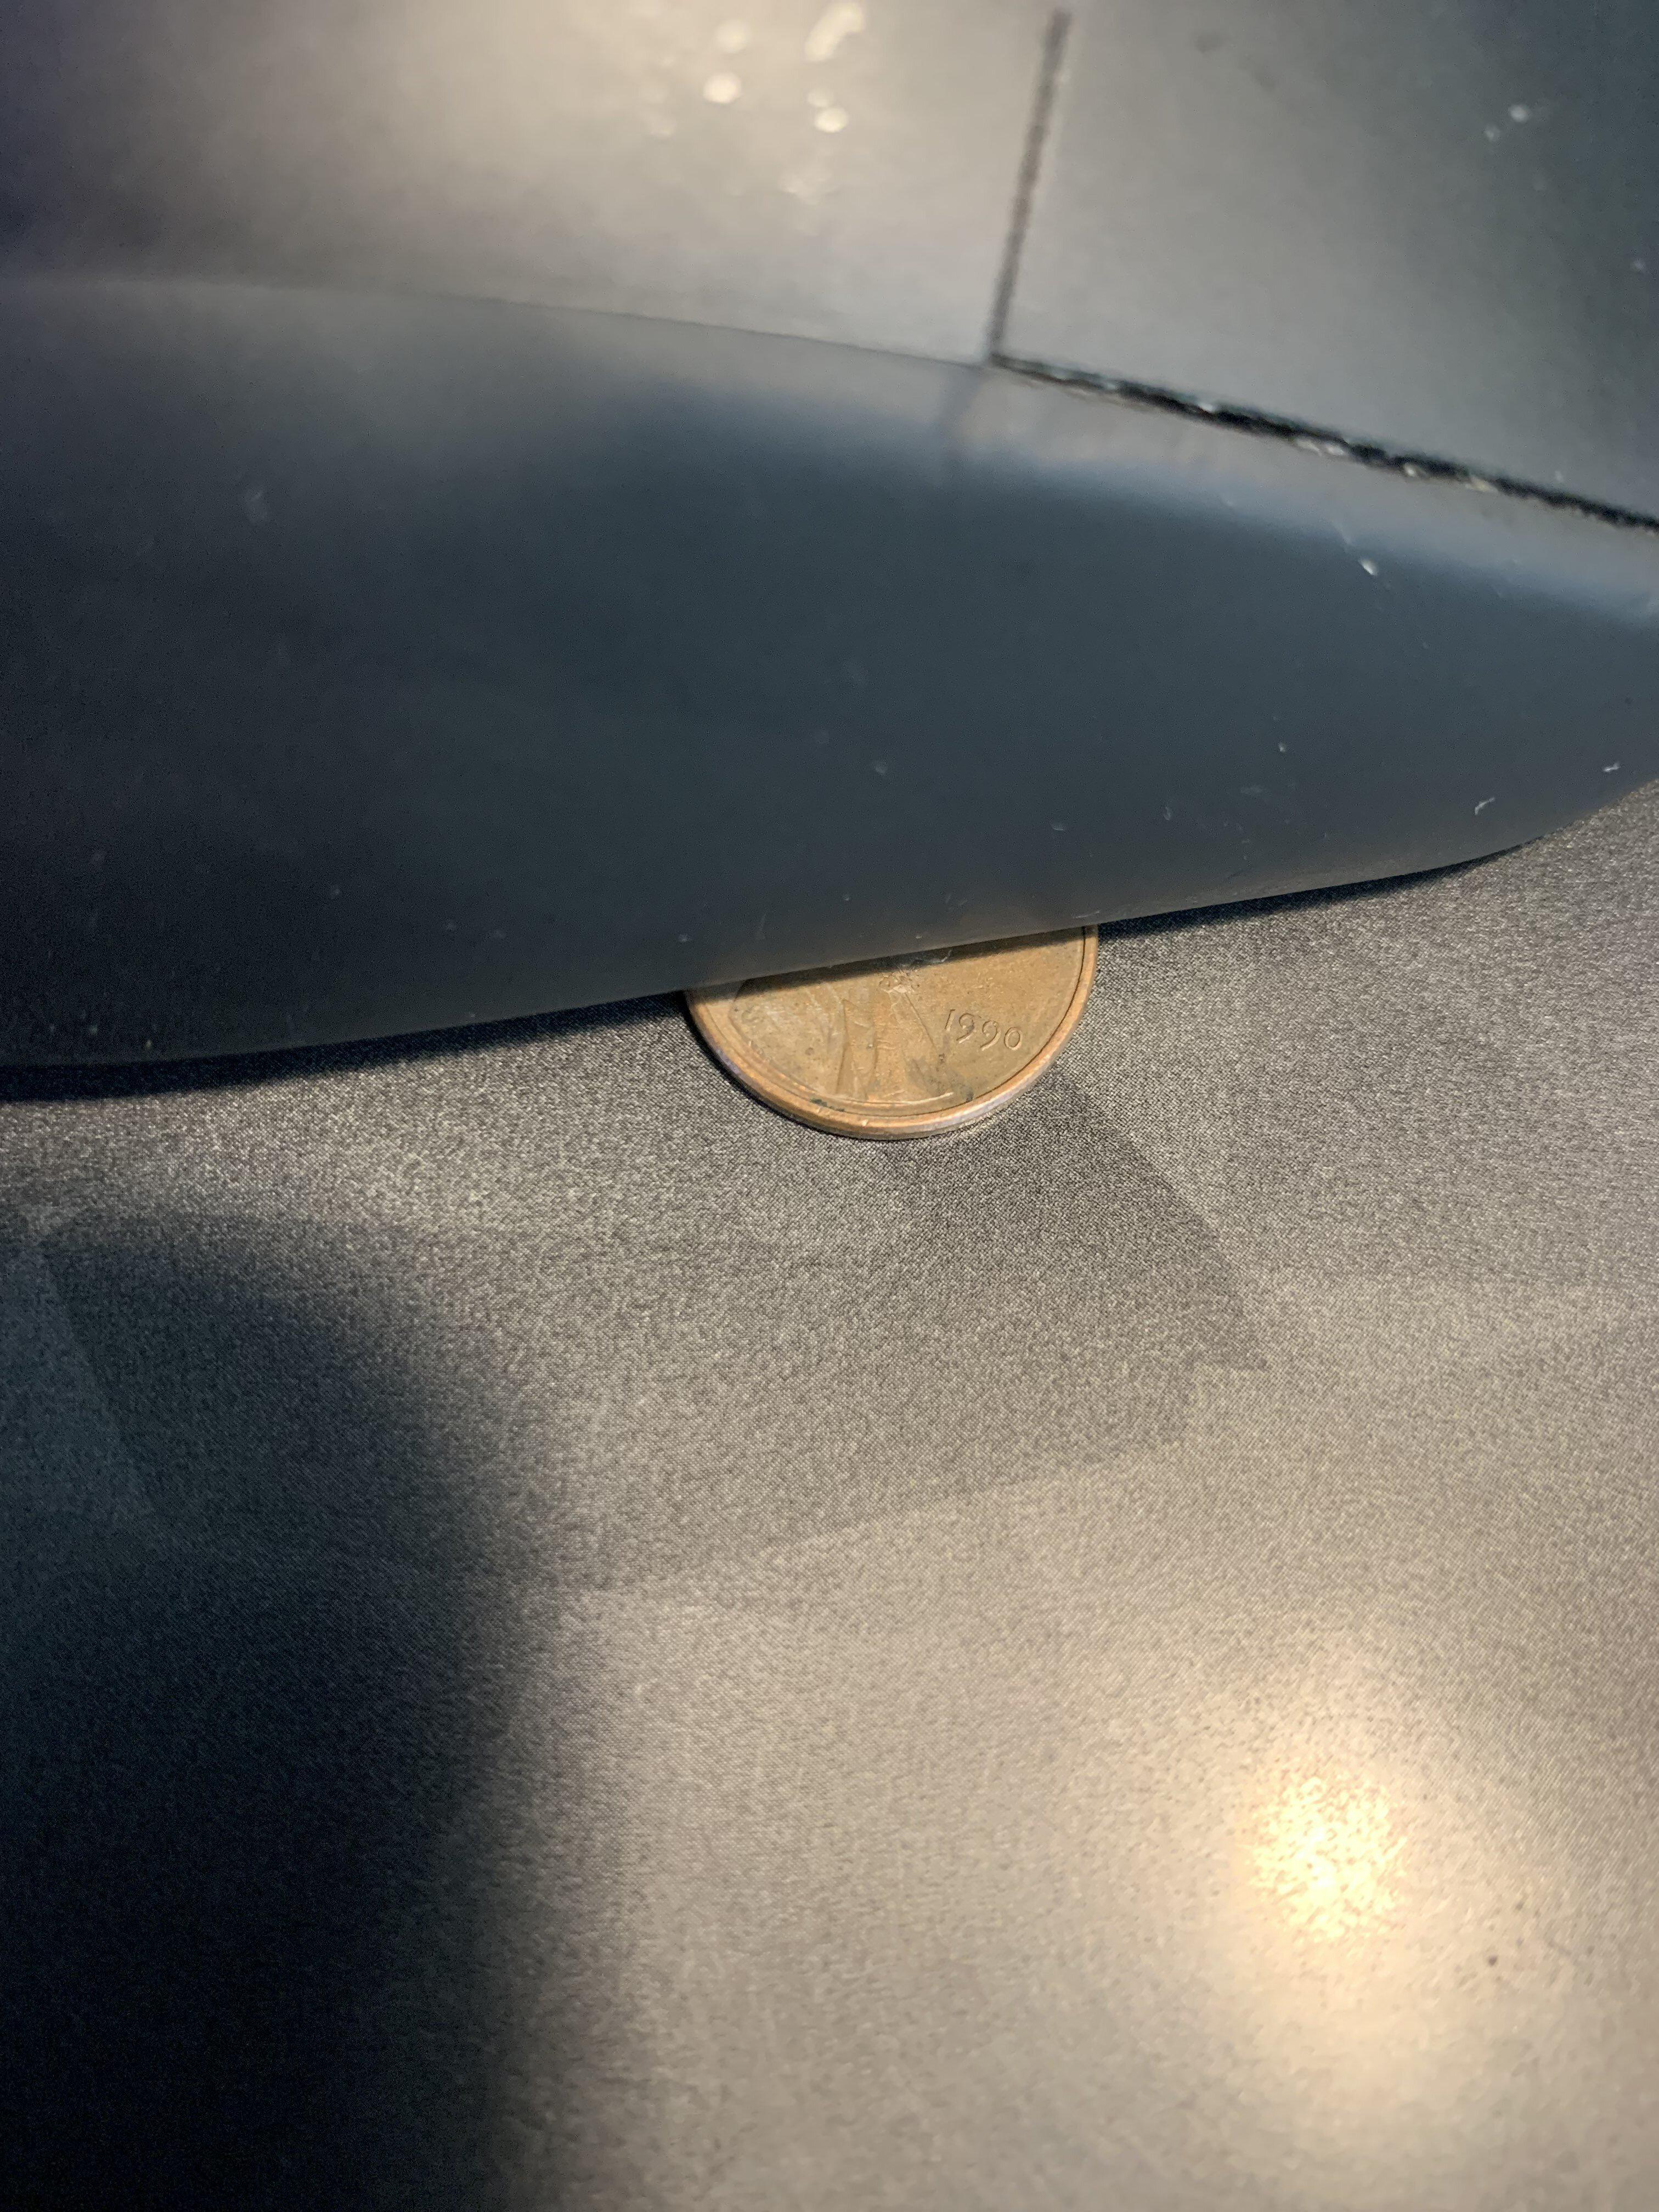Penny: (589, 876, 1232, 1190)
